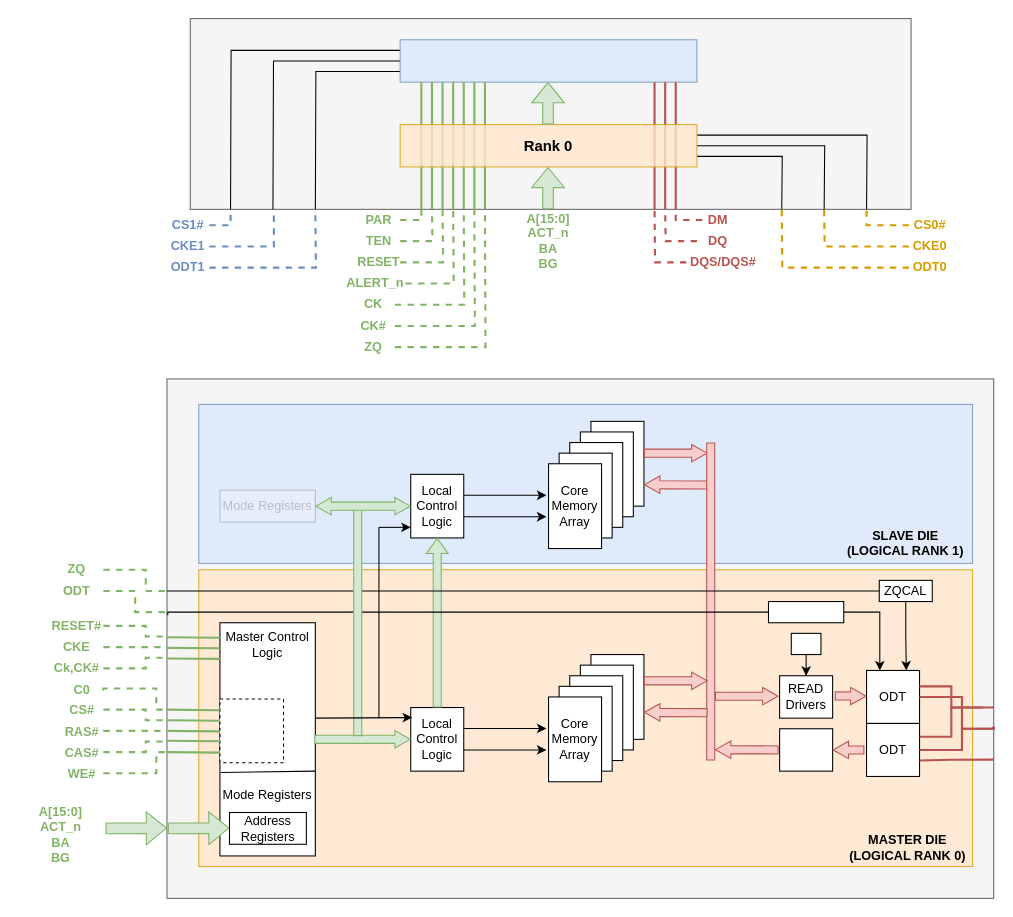
This 1013x917 diagram has some shape labels left out. Each missing label, with the centre of its shape:
Command Decode: [251,730]
DLL: [805,643]
ODT Control: [805,611]
Rank 1: [548,60]
WRITE Drivers: [806,749]
